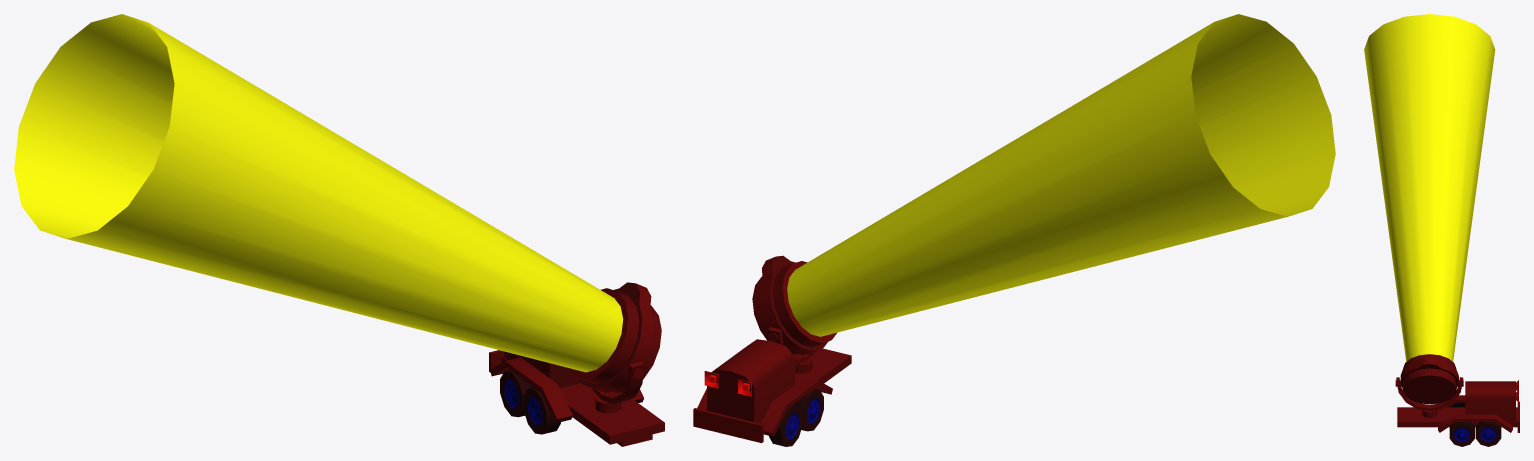
Rendered from LargeSearchlight.glb.
3 views of the same model, side by side, from view 1: azimuth 30°, elevation 25°; view 2: azimuth 150°, elevation 25°; view 3: azimuth 270°, elevation 25° (orthographic). The views are drawn at different scales.
Visible parts, largest first — view 1: LargeSearchlight; view 2: LargeSearchlight; view 3: LargeSearchlight.
Boxes of the visible parts, <box> form: LargeSearchlight: <box>14,14,664,446</box>; LargeSearchlight: <box>693,14,1335,446</box>; LargeSearchlight: <box>1364,14,1519,446</box>.
Size of the model in its own units: 92.68 by 77.02 by 36.68.
